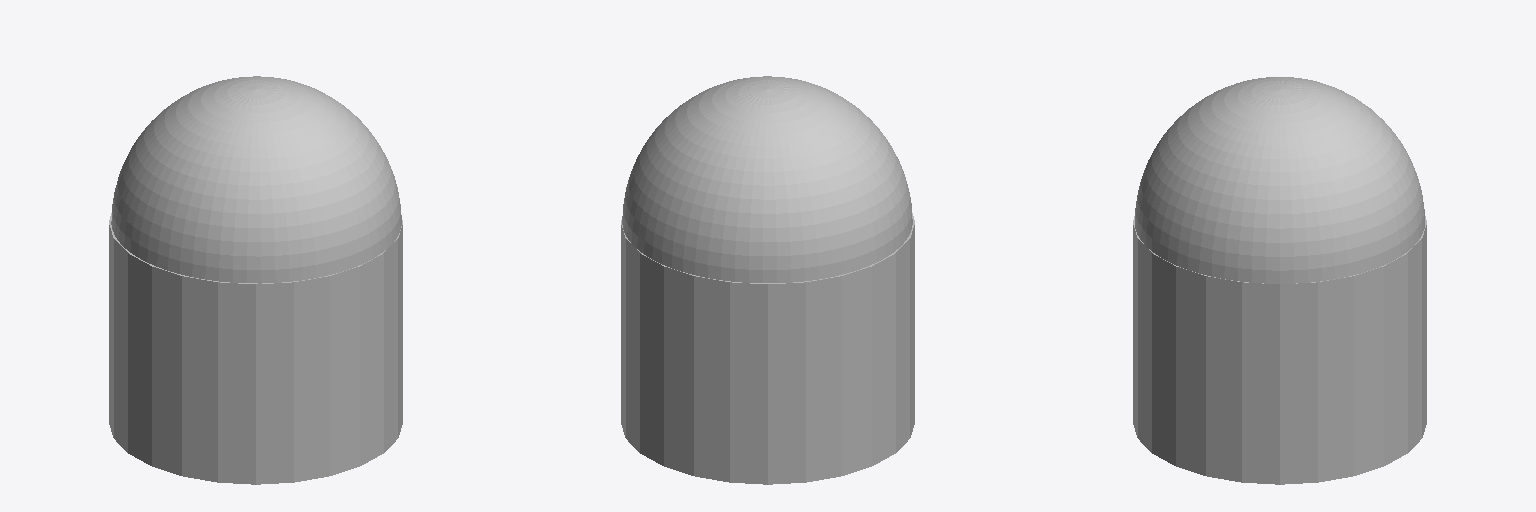
The model's file is поект.obj.
The picture shows the model from 3 angles: view 1: azimuth 30°, elevation 25°; view 2: azimuth 150°, elevation 25°; view 3: azimuth 270°, elevation 25°; orthographic projection.
Visible parts, largest first — view 1: Cone001; view 2: Cone001; view 3: Cone001.
Boxes of the visible parts, <box> form: Cone001: <box>109,76,402,484</box>; Cone001: <box>621,76,914,484</box>; Cone001: <box>1133,77,1426,484</box>.
Bounding box in the file's own units: 40 × 49.89 × 40.